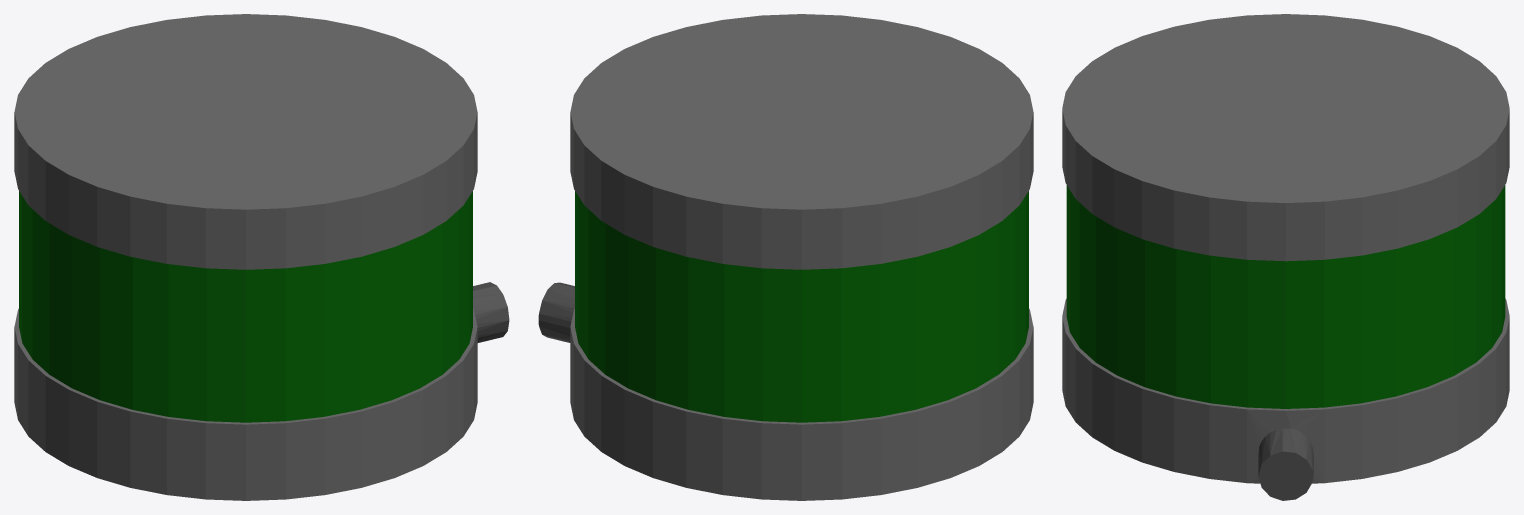
The model's file is VLP16.dae.
The picture shows the model from 3 angles, left to right: view 1: azimuth 30°, elevation 25°; view 2: azimuth 150°, elevation 25°; view 3: azimuth 270°, elevation 25°; orthographic projection. The views are drawn at different scales.
Parts seen in each view (by area): view 1: group_0 (×6); view 2: group_0 (×6); view 3: group_0 (×6).
Boxes of the visible parts, x1,y1,x2,y2 form: group_0 (×6): (14,14,509,500); group_0 (×6): (538,14,1033,500); group_0 (×6): (1062,14,1509,500).
Bounding box in the file's own units: 4.56 × 4.07 × 2.82.
